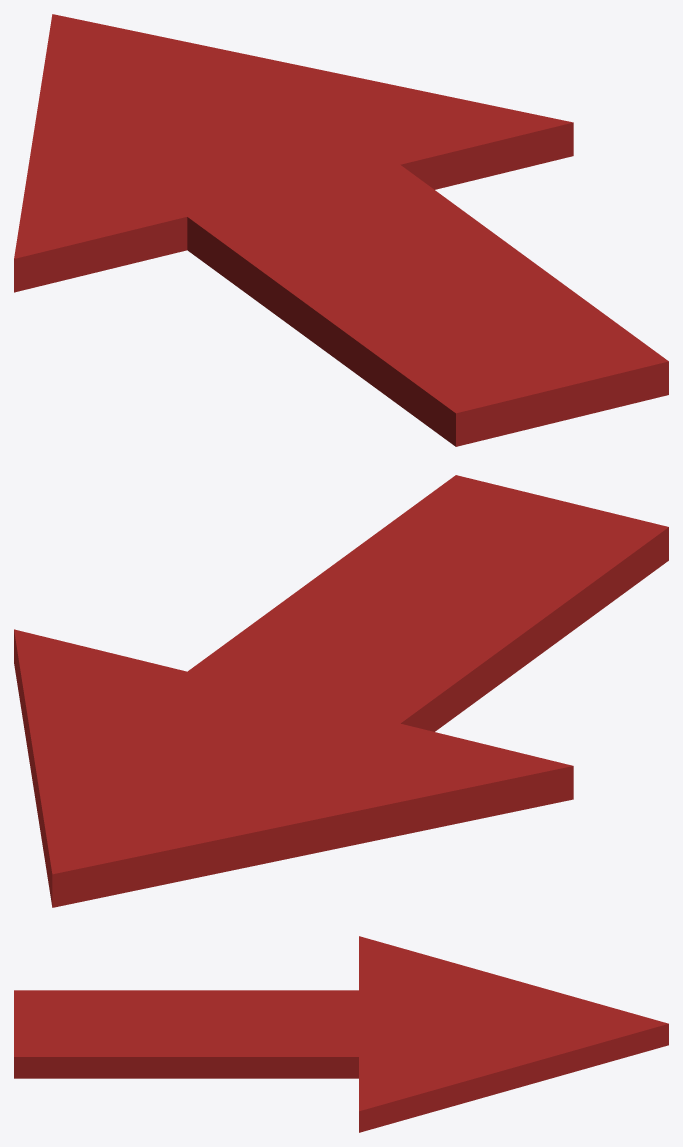
File: Arrow.fbx
The picture shows the model from 3 angles, top to bottom: view 1: azimuth 30°, elevation 25°; view 2: azimuth 150°, elevation 25°; view 3: azimuth 270°, elevation 25°; orthographic projection. The views are drawn at different scales.
Parts seen in each view (by area): view 1: Cube.040; view 2: Cube.040; view 3: Cube.040.
Boxes of the visible parts, <box> form: Cube.040: <box>14,14,668,446</box>; Cube.040: <box>14,475,668,907</box>; Cube.040: <box>14,936,668,1132</box>.
Bounding box in the file's own units: 123 × 7.07 × 195.
